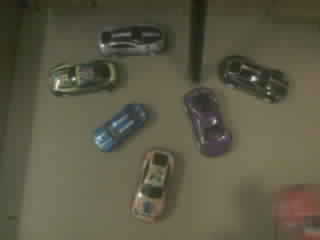Car: (218, 55, 287, 102), (184, 87, 230, 155), (134, 150, 173, 220), (50, 60, 117, 95), (96, 104, 145, 151), (99, 24, 164, 54)
